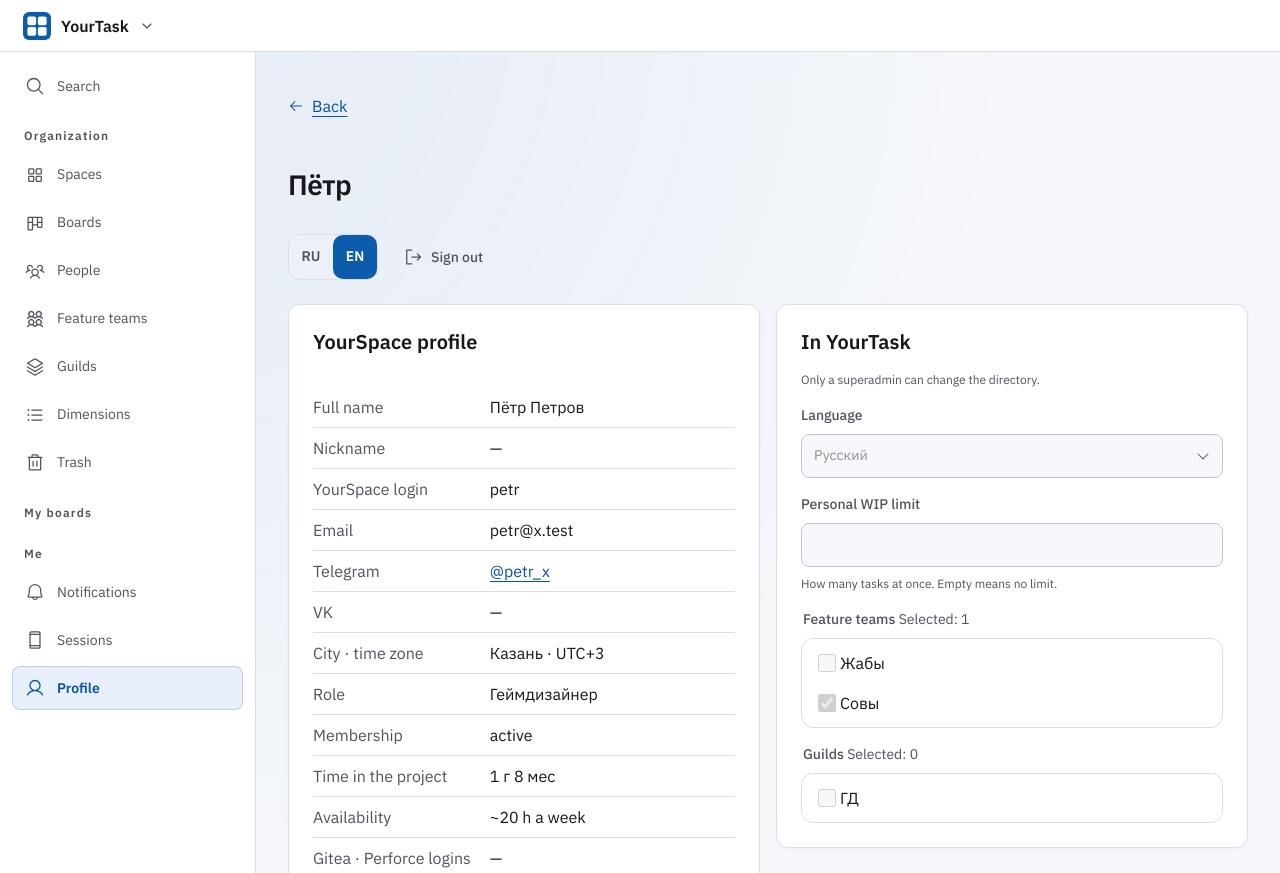
directory › failed logout keeps the profile open and shows the localized error
The width and height of the screenshot is (1280, 873).
Click the button "Sign out" at (443, 257), box [386,234,500,280]
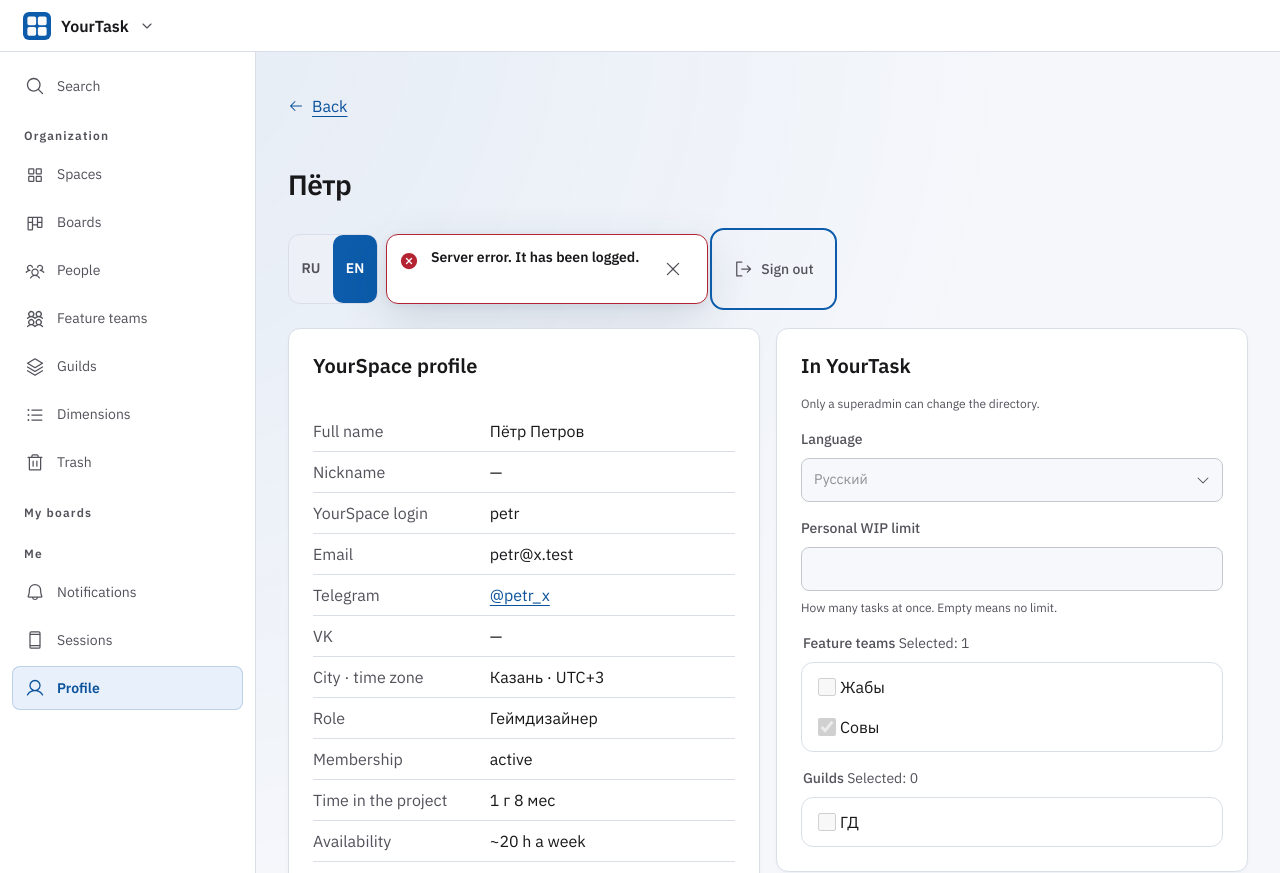
Expected: the heading "Пётр" is shown, [288,168,351,202]
Expected: the message reads "Server error. It has been logged.", [431,248,639,266]
